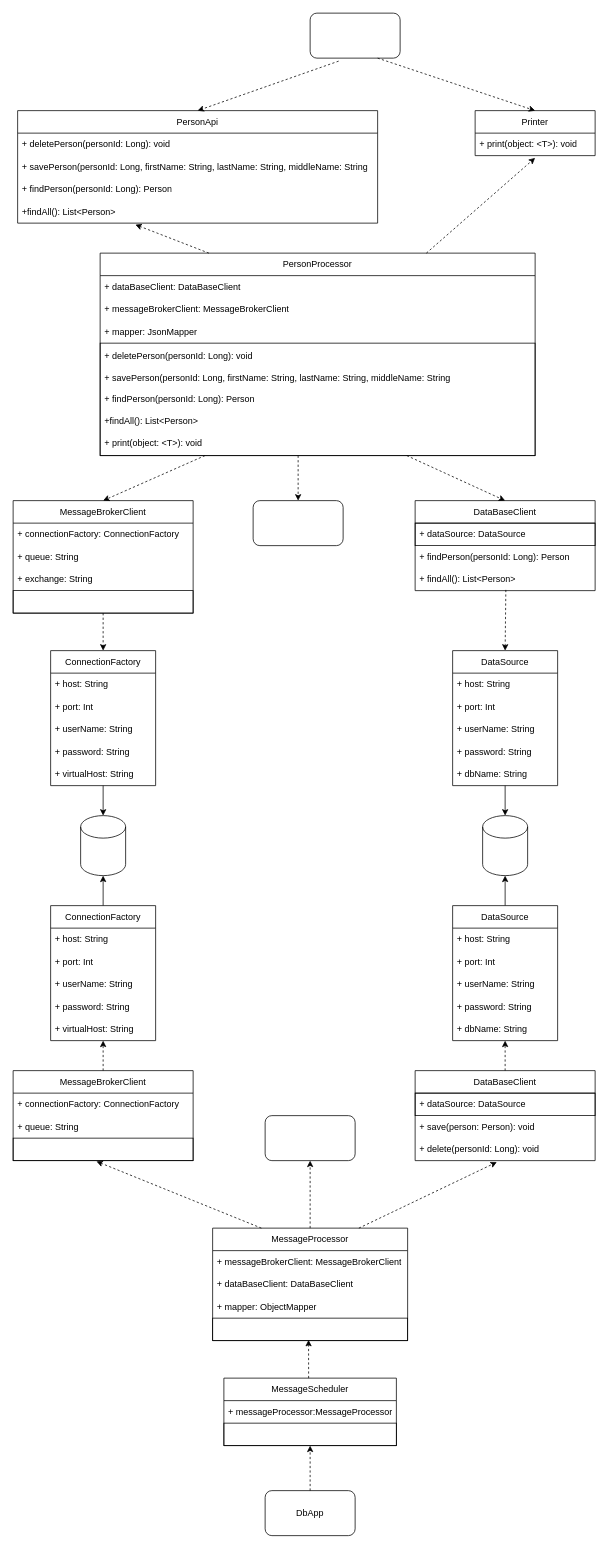
The diagram is 608 pixels wide and 1549 high, and some of its shapes have lost their labels. Here are the shapes that lost their labels. From the top down, the centre of each, then its label:
the point at 354,35: ApiApp
the point at 297,523: JsonMapper
the point at 102,601: + sendJson(): void
the point at 103,845: RabbitMQ
the point at 505,845: DataBase
the point at 102,1149: + getMessage(): String
the point at 309,1138: ObjectMapper
the point at 310,1329: + processSingleMessage(): void
the point at 309,1434: + start(): void
